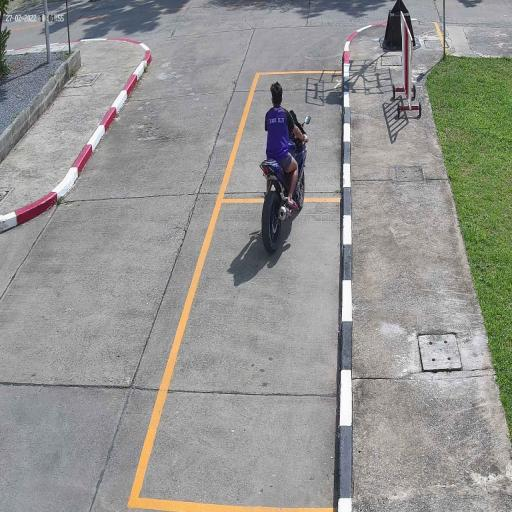motorcycle: (260, 126, 308, 255)
